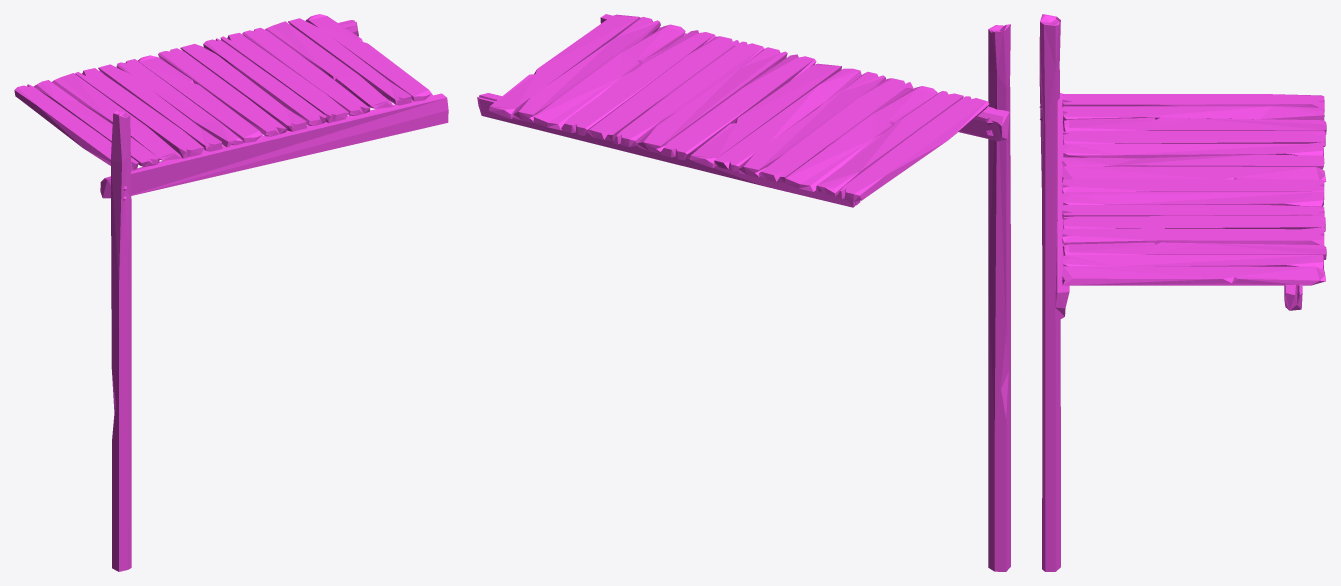
The model's file is SM_Pier_Platform_Long_Fantasy.fbx.
3 renders of one model, left to right at view 1: azimuth 30°, elevation 25°; view 2: azimuth 150°, elevation 25°; view 3: azimuth 270°, elevation 25°, orthographic. The views are drawn at different scales.
Parts seen in each view (by area): view 1: SM_Pier_Platform_Long_Fantasy; view 2: SM_Pier_Platform_Long_Fantasy; view 3: SM_Pier_Platform_Long_Fantasy.
Boxes of the visible parts, x1,y1,x2,y2 form: SM_Pier_Platform_Long_Fantasy: (14, 14, 448, 571); SM_Pier_Platform_Long_Fantasy: (477, 14, 1010, 571); SM_Pier_Platform_Long_Fantasy: (1039, 14, 1326, 571).
Bounding box in the file's own units: 5.55 × 6.93 × 3.28.
